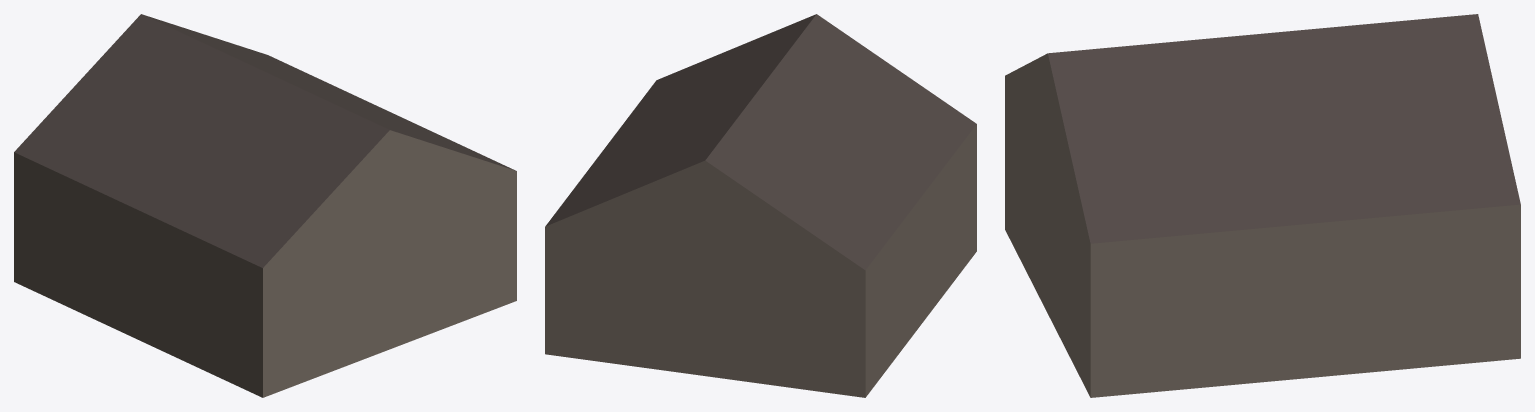
The picture shows the model from 3 angles, left to right: view 1: azimuth 30°, elevation 25°; view 2: azimuth 150°, elevation 25°; view 3: azimuth 270°, elevation 25°; orthographic projection. The views are drawn at different scales.
Parts seen in each view (by area): view 1: HP-w682223751; view 2: HP-w682223751; view 3: HP-w682223751.
Part boxes in pixels (x1,y1,x2,y2): HP-w682223751: (14,14,516,397); HP-w682223751: (545,14,976,397); HP-w682223751: (1005,14,1520,397).
Size of the model in its own units: 17.31 by 10.14 by 18.19.
